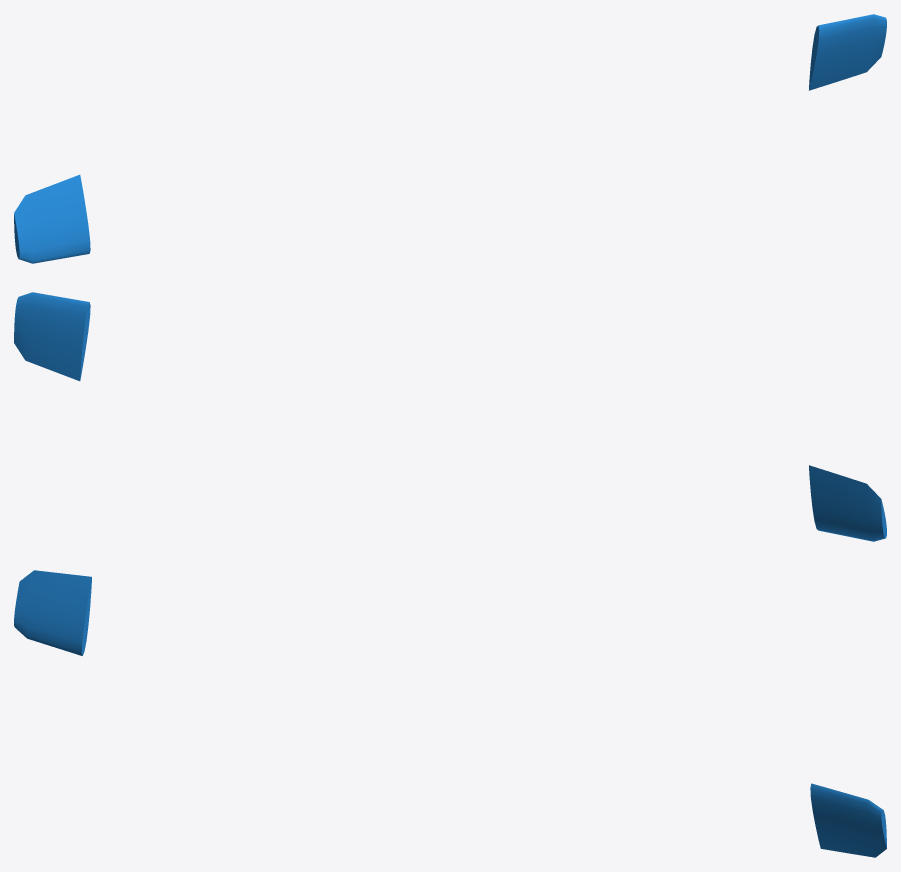
Rendered from front_right_prop_tips.obj.
3 renders of one model, top to bottom at view 1: azimuth 30°, elevation 25°; view 2: azimuth 150°, elevation 25°; view 3: azimuth 330°, elevation 25°, orthographic.
Parts seen in each view (by area): view 1: front_right_prop_tips; view 2: front_right_prop_tips; view 3: front_right_prop_tips.
Part boxes in pixels (x1,y1,x2,y2): front_right_prop_tips: (14, 14, 886, 263); front_right_prop_tips: (14, 292, 886, 541); front_right_prop_tips: (14, 570, 886, 857).
Size of the model in its own units: 0.102 by 0.0106 by 0.00212.
